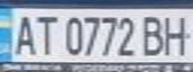0: (60, 12, 84, 56)
2: (115, 12, 142, 59)
7: (78, 12, 103, 56), (100, 12, 121, 57)
A: (6, 11, 39, 56)
B: (139, 12, 169, 56)
H: (160, 11, 193, 56)
T: (30, 11, 60, 56)
